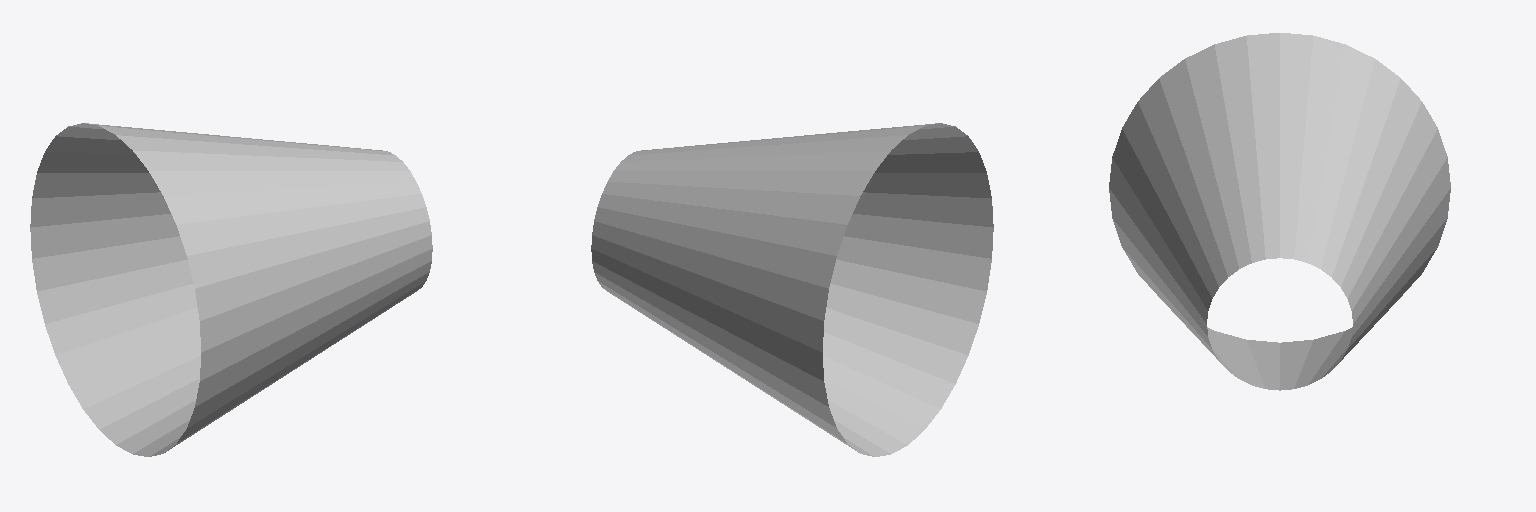
File: air.obj
The picture shows the model from 3 angles: view 1: azimuth 30°, elevation 25°; view 2: azimuth 150°, elevation 25°; view 3: azimuth 270°, elevation 25°; orthographic projection.
Parts seen in each view (by area): view 1: Cone; view 2: Cone; view 3: Cone.
Boxes of the visible parts, x1=… form: Cone: x1=30, y1=123, x2=432, y2=456; Cone: x1=591, y1=123, x2=993, y2=456; Cone: x1=1109, y1=33, x2=1450, y2=390.
Bounding box in the file's own units: 1.38 × 1.46 × 1.46.